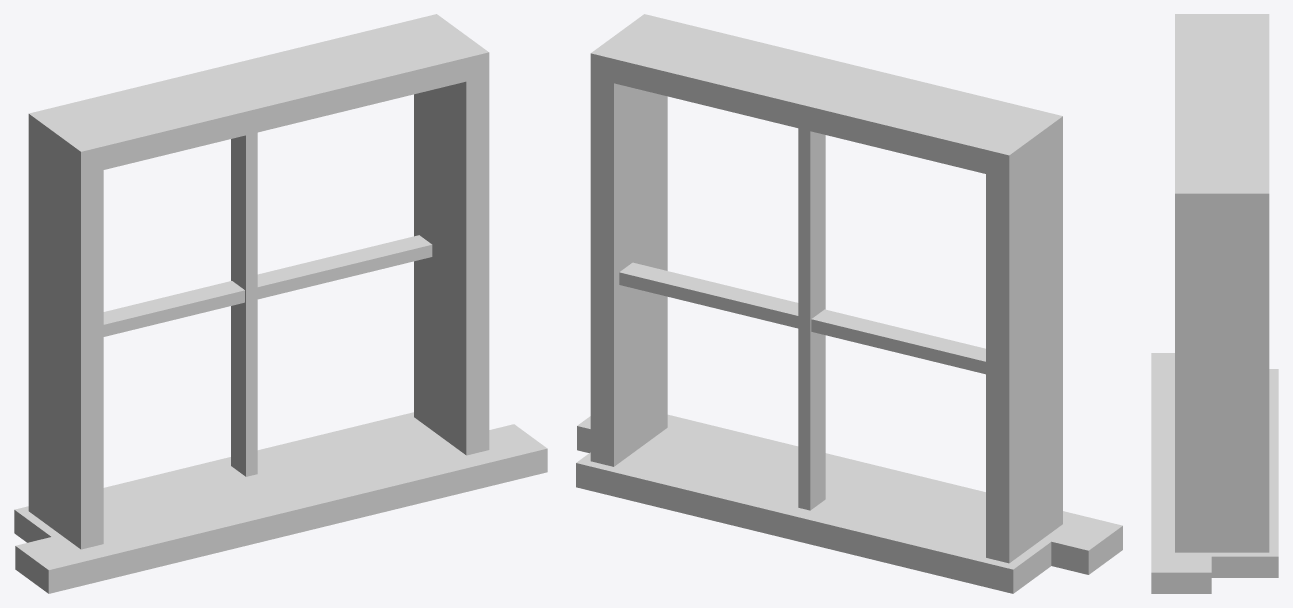
File: Window1_04.fbx
The picture shows the model from 3 angles, left to right: view 1: azimuth 30°, elevation 25°; view 2: azimuth 150°, elevation 25°; view 3: azimuth 270°, elevation 25°; orthographic projection. The views are drawn at different scales.
Visible parts, largest first — view 1: Window1_04; view 2: Window1_04; view 3: Window1_04.
Part boxes in pixels (x1,y1,x2,y2): Window1_04: [14, 14, 547, 593]; Window1_04: [576, 14, 1122, 593]; Window1_04: [1151, 14, 1278, 593].
Size of the model in its own units: 1.1 by 0.8881 by 0.27.
